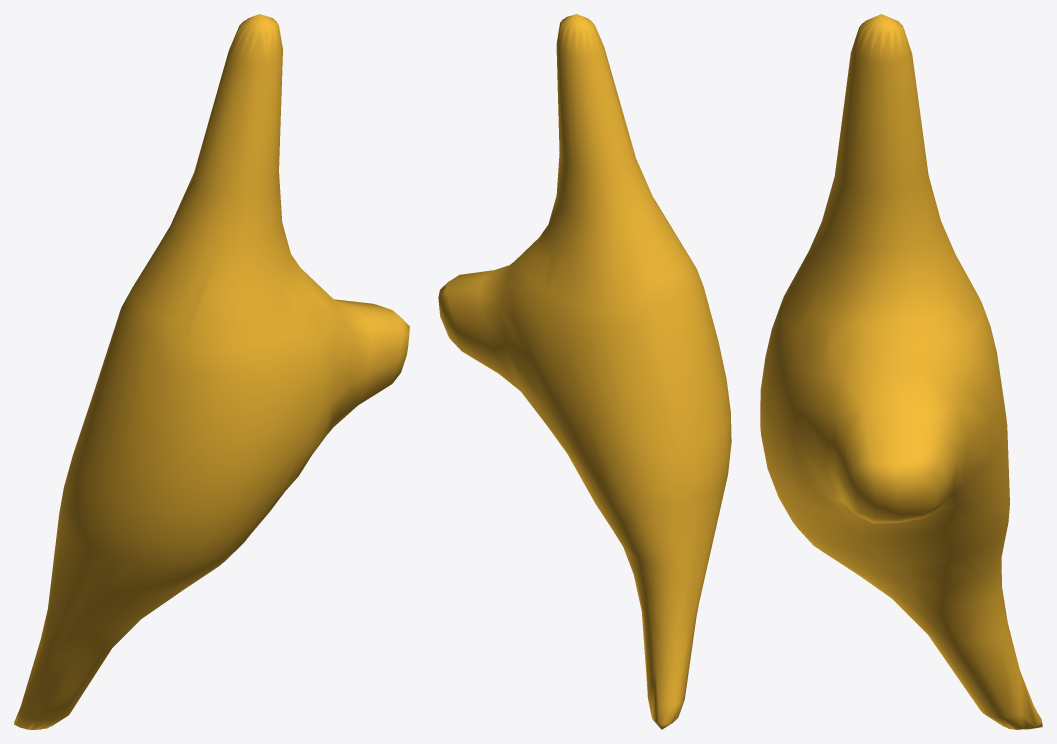
File: nervoso-vestibular-nuclei-l.glb
The picture shows the model from 3 angles, left to right: view 1: azimuth 30°, elevation 25°; view 2: azimuth 150°, elevation 25°; view 3: azimuth 270°, elevation 25°; orthographic projection. The views are drawn at different scales.
Visible parts, largest first — view 1: Vestibular nuclei.l; view 2: Vestibular nuclei.l; view 3: Vestibular nuclei.l.
Boxes of the visible parts, bbox=[...] form: Vestibular nuclei.l: bbox=[14, 14, 409, 729]; Vestibular nuclei.l: bbox=[438, 14, 731, 729]; Vestibular nuclei.l: bbox=[760, 14, 1042, 729].
Bounding box in the file's own units: 0.0065 × 0.0137 × 0.00435.
